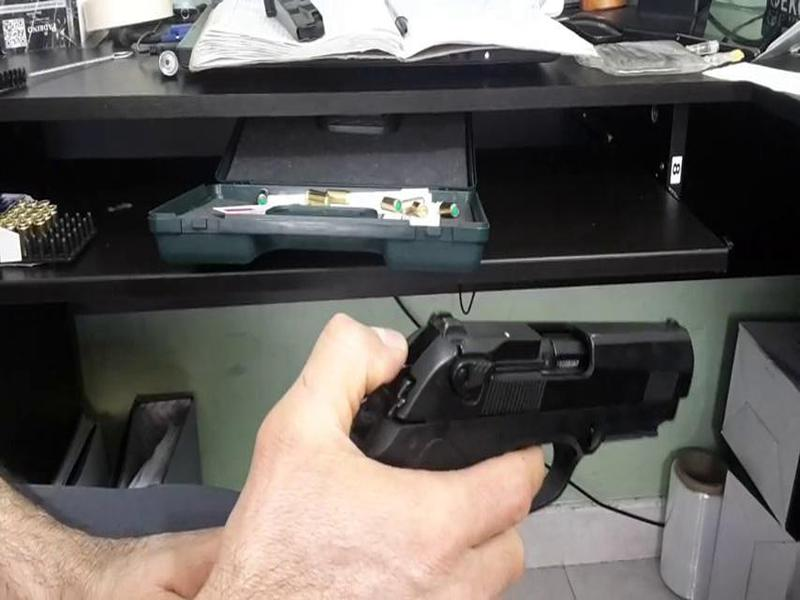Pistola: (318, 282, 721, 514)
